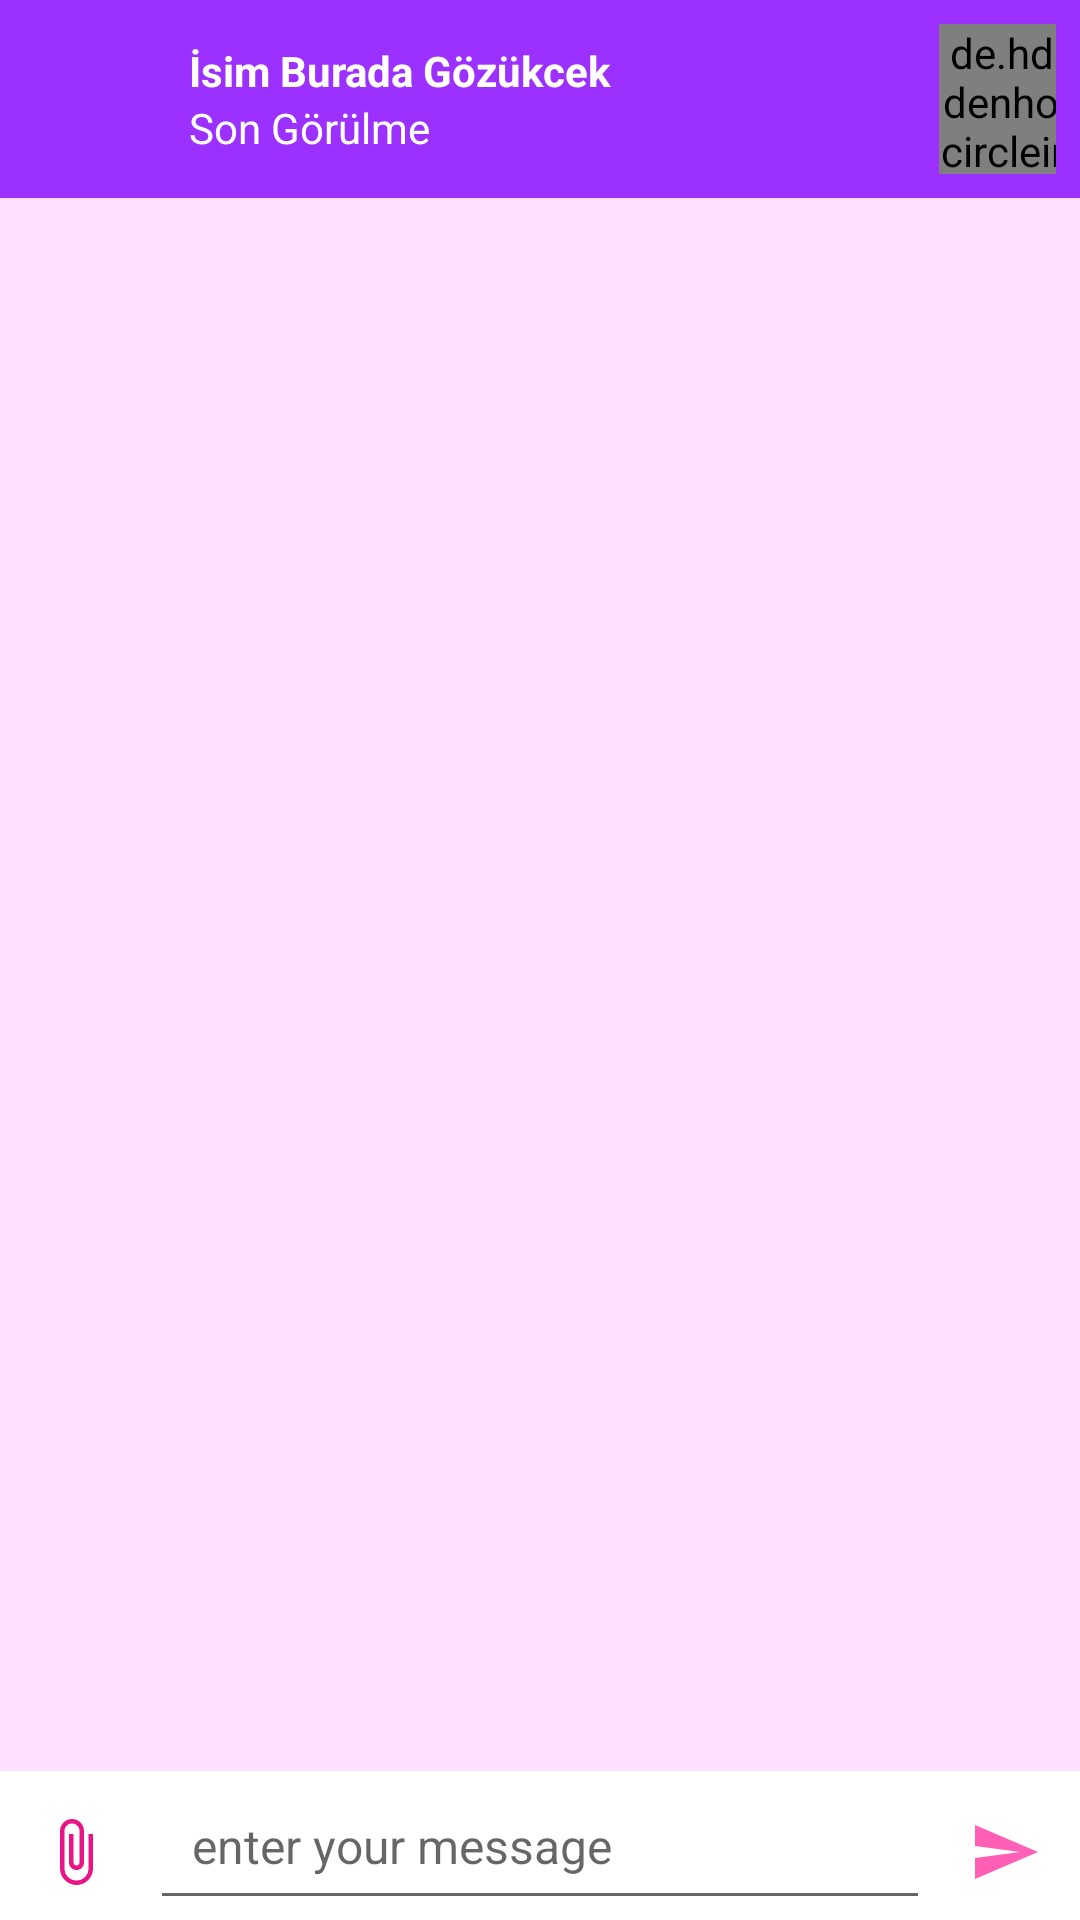

Icons on this 1080px×1920px Android screen, each with its box as BBox(x1, y1, x2, y2):
attach file: BBox(60, 1819, 93, 1885)
send: BBox(975, 1825, 1038, 1879)
